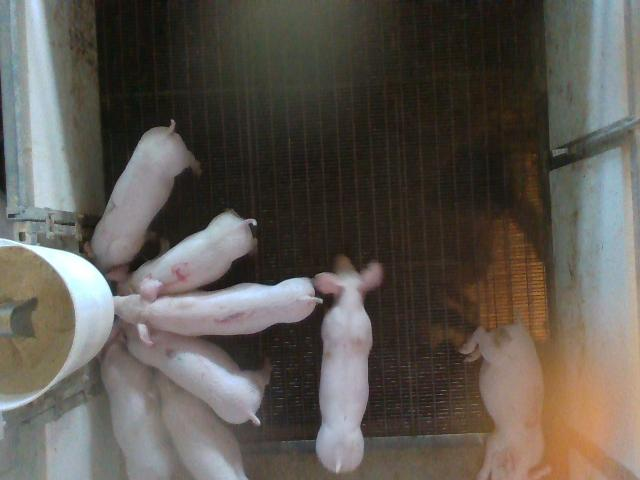pig-1: (114, 278, 321, 343)
pig-3: (459, 319, 551, 478)
pig-4: (106, 210, 256, 294)
